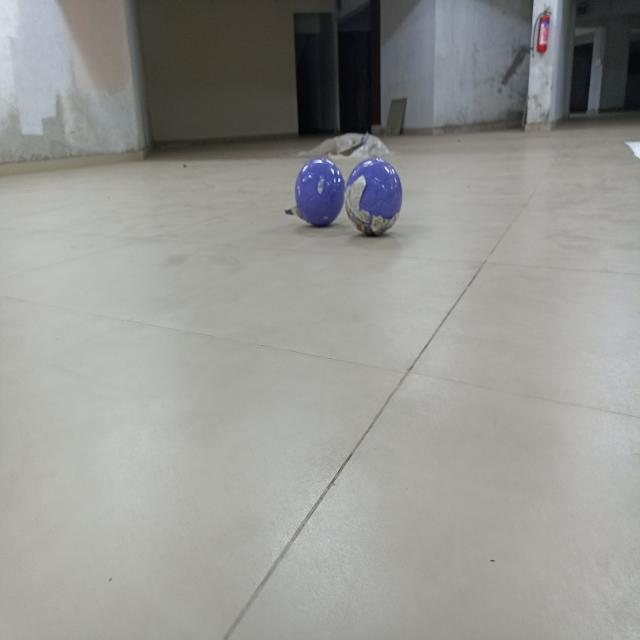purple_ball: (344, 154, 409, 240), (295, 150, 347, 229)
